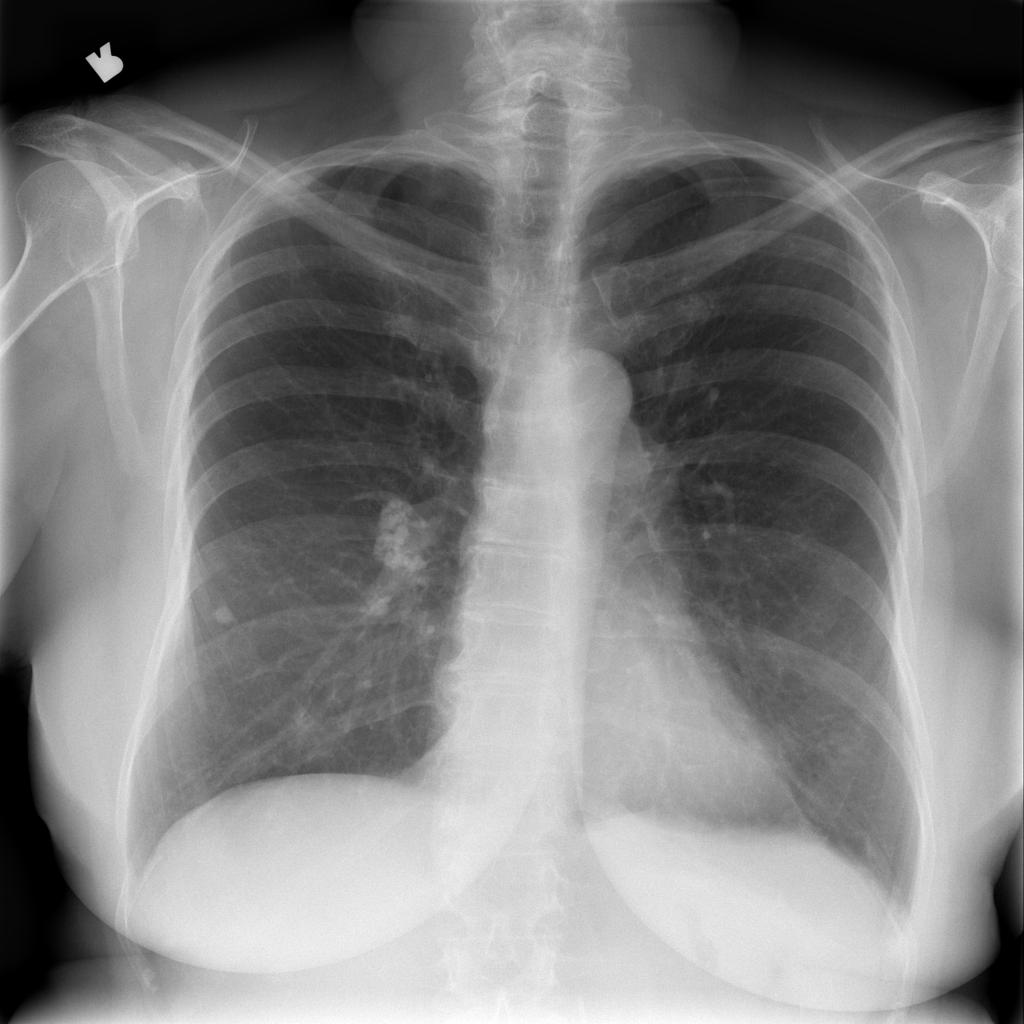nodule: (200, 588, 251, 636)
